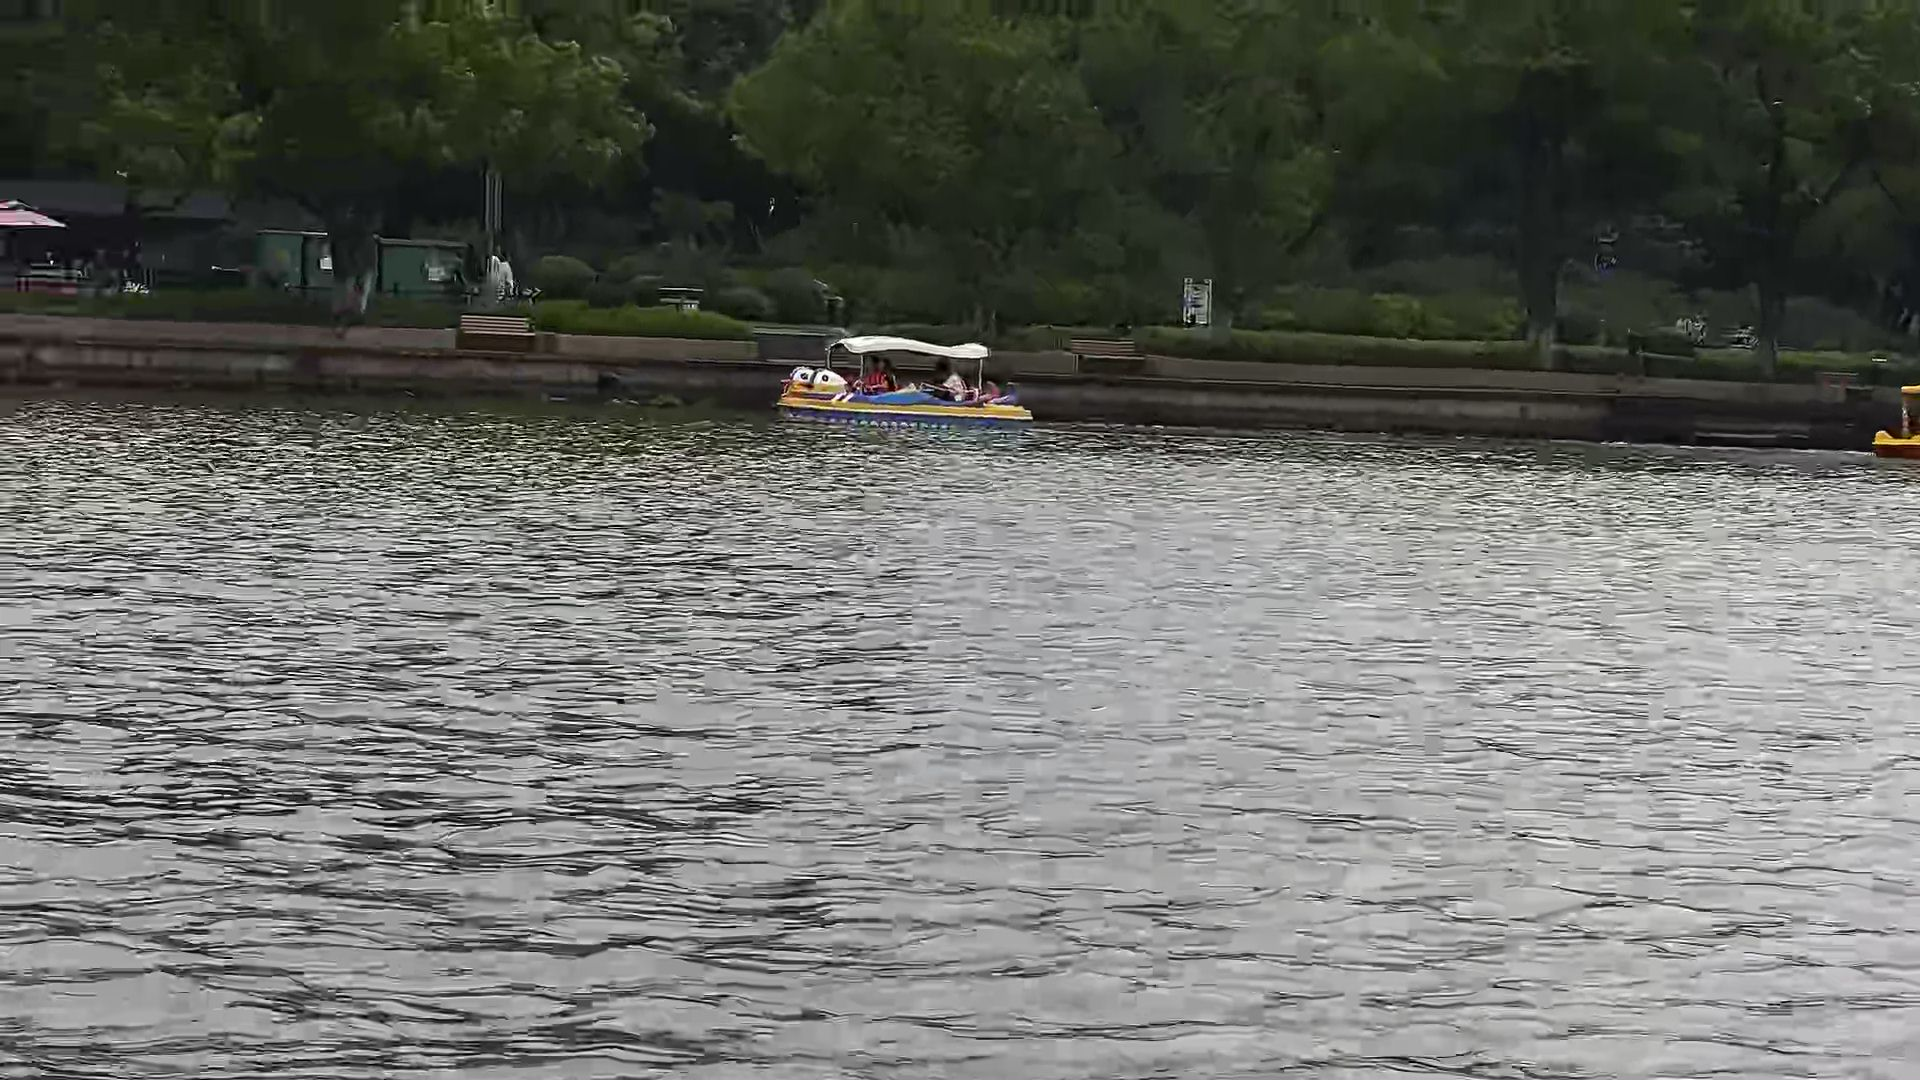boat: (771, 332, 1036, 438)
